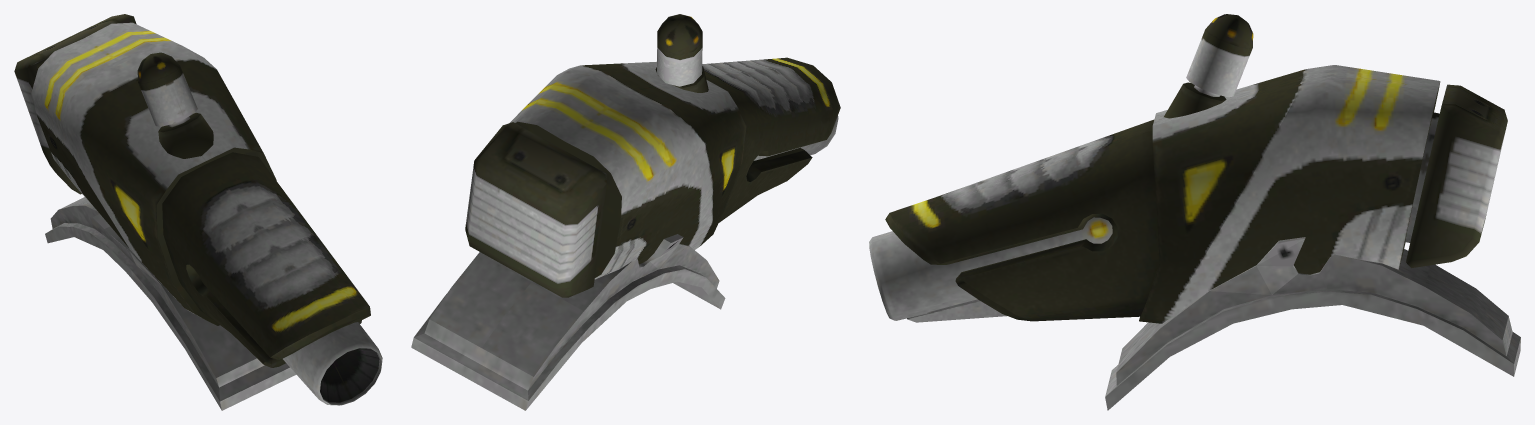
File: whitestar_grenade_launcher.glb
3 views of the same model, side by side, from view 1: azimuth 30°, elevation 25°; view 2: azimuth 150°, elevation 25°; view 3: azimuth 270°, elevation 25° (orthographic). The views are drawn at different scales.
Visible parts, largest first — view 1: weapons/whitestar_grenade_launcher_0; view 2: weapons/whitestar_grenade_launcher_0; view 3: weapons/whitestar_grenade_launcher_0.
Part boxes in pixels (box(x1,y1,x2,y2)): weapons/whitestar_grenade_launcher_0: box(14, 14, 382, 410); weapons/whitestar_grenade_launcher_0: box(411, 14, 840, 410); weapons/whitestar_grenade_launcher_0: box(869, 14, 1520, 410).
Size of the model in its own units: 0.7286 by 1.22 by 2.
Materials: 1 (1 with a texture image).
